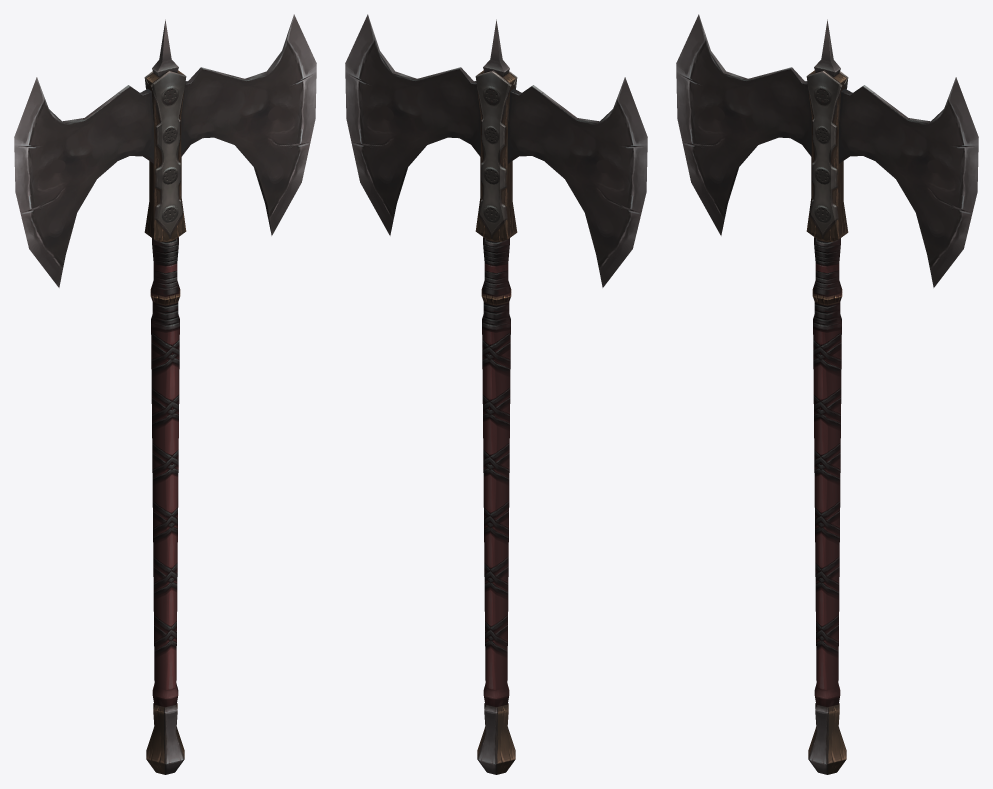
Rendered from 77_weapon.FBX.
3 views of the same model, side by side, from view 1: azimuth 30°, elevation 25°; view 2: azimuth 150°, elevation 25°; view 3: azimuth 330°, elevation 25° (orthographic).
Parts seen in each view (by area): view 1: 77_weapon; view 2: 77_weapon; view 3: 77_weapon.
Boxes of the visible parts, box(x1,y1,x2,y2) form: 77_weapon: box(14, 14, 316, 774); 77_weapon: box(345, 14, 647, 774); 77_weapon: box(676, 14, 978, 774).
Size of the model in its own units: 1414 by 3352 by 154.
